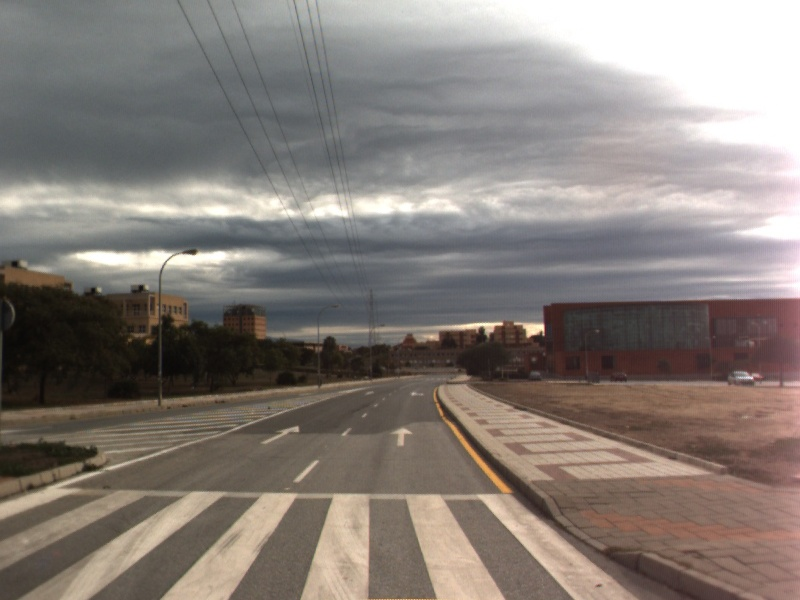STRAIGHT: (259, 424, 301, 446), (388, 425, 415, 448)
